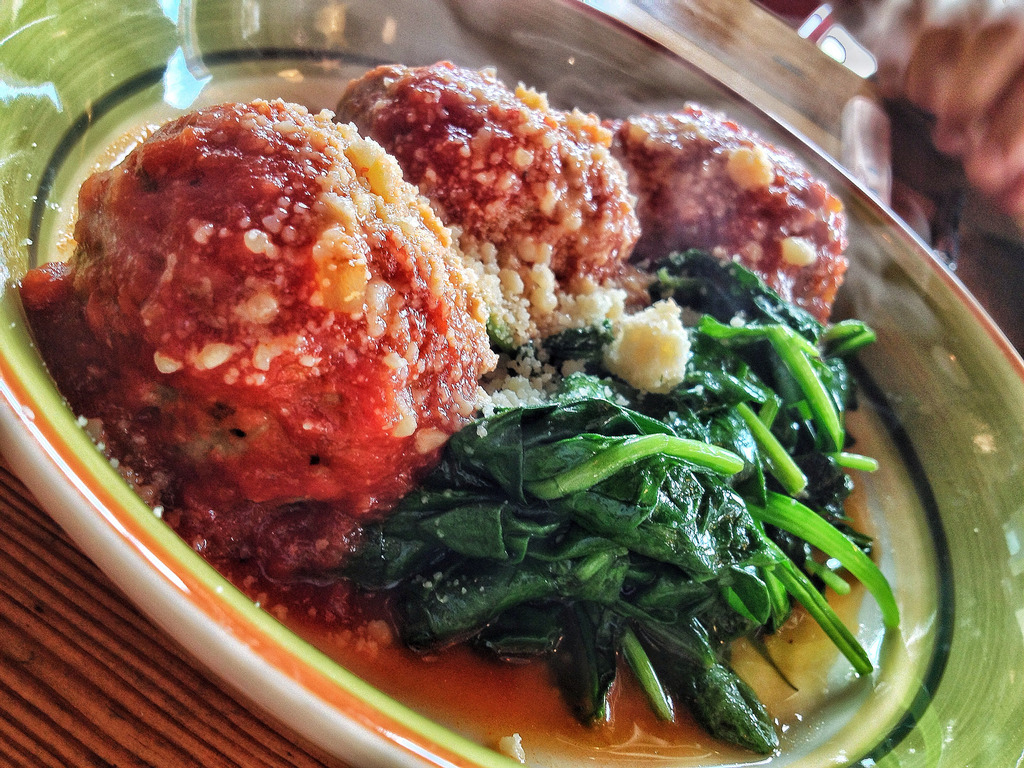chopped lettuce: (384, 309, 859, 655)
meatballs: (81, 105, 466, 475), (358, 63, 629, 270), (638, 113, 845, 298)
